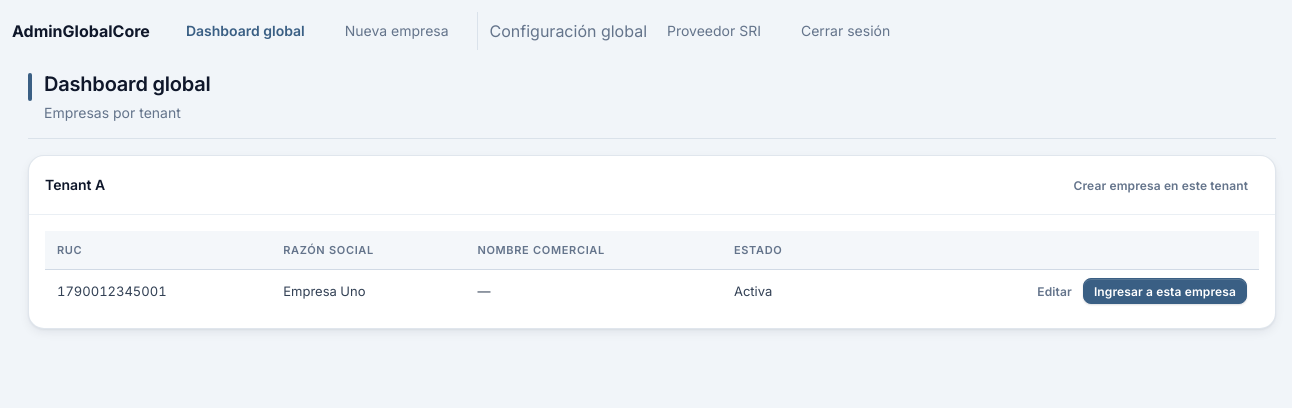
it: AdminGlobalCore → Ingresar a esta empresa (árbol real de rutas) › si operate-company falla, muestra un error controlado y se queda en AdminCore
Click the button "Ingresar a esta empresa" at coordinates (1165, 291), box top-left (1083, 278), bottom-right (1247, 304)
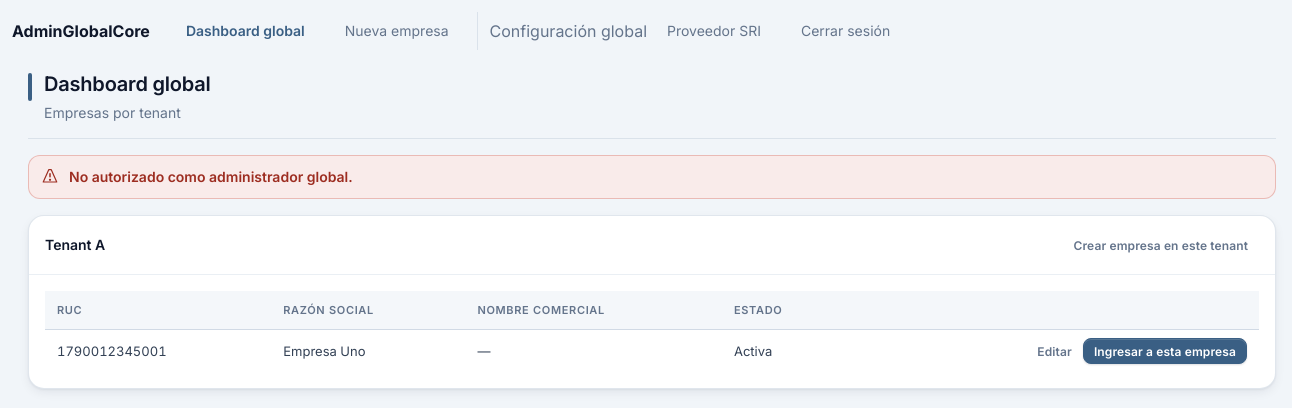
Expected: the text "No autorizado como administrador global." is shown, top-left (69, 166), bottom-right (353, 188)
